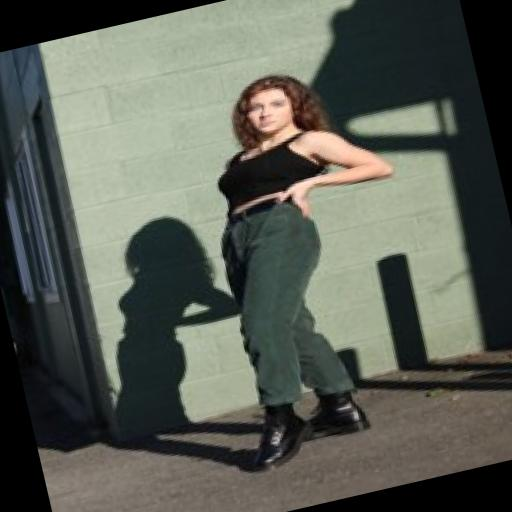human: (144, 38, 460, 484)
